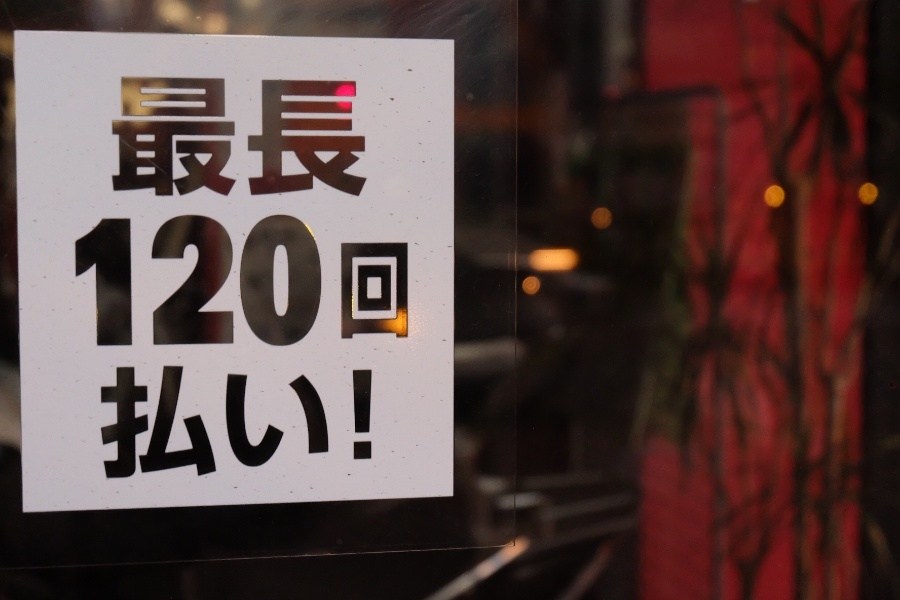text: (305, 214, 321, 349), (81, 214, 96, 349), (97, 214, 112, 349), (113, 214, 128, 349), (129, 214, 144, 349), (145, 214, 160, 349), (161, 214, 176, 349), (177, 214, 192, 349), (193, 214, 208, 349), (209, 214, 224, 349), (225, 214, 240, 349), (241, 214, 256, 349), (257, 214, 272, 349), (273, 214, 288, 349), (289, 214, 304, 349), (353, 77, 369, 202), (113, 77, 128, 202), (129, 77, 144, 202), (145, 77, 160, 202), (161, 77, 176, 202), (177, 77, 192, 202), (193, 77, 208, 202), (209, 77, 224, 202), (225, 77, 240, 202), (241, 77, 256, 202), (257, 77, 272, 202), (273, 77, 288, 202), (289, 77, 304, 202), (305, 77, 320, 202), (321, 77, 336, 202), (337, 77, 352, 202), (113, 365, 128, 488), (129, 365, 144, 488), (145, 365, 160, 488), (161, 365, 176, 488), (177, 365, 192, 488), (193, 365, 208, 488), (209, 365, 224, 488), (225, 365, 240, 488), (241, 365, 256, 488), (257, 365, 272, 488), (273, 365, 288, 488), (289, 365, 304, 488), (305, 365, 320, 488), (321, 365, 336, 488), (337, 365, 352, 488), (353, 365, 368, 488), (98, 365, 112, 488), (353, 244, 368, 342), (369, 244, 384, 342), (385, 244, 400, 342), (340, 244, 352, 342), (73, 214, 80, 349), (401, 244, 409, 342), (369, 365, 374, 488), (111, 77, 112, 202)
